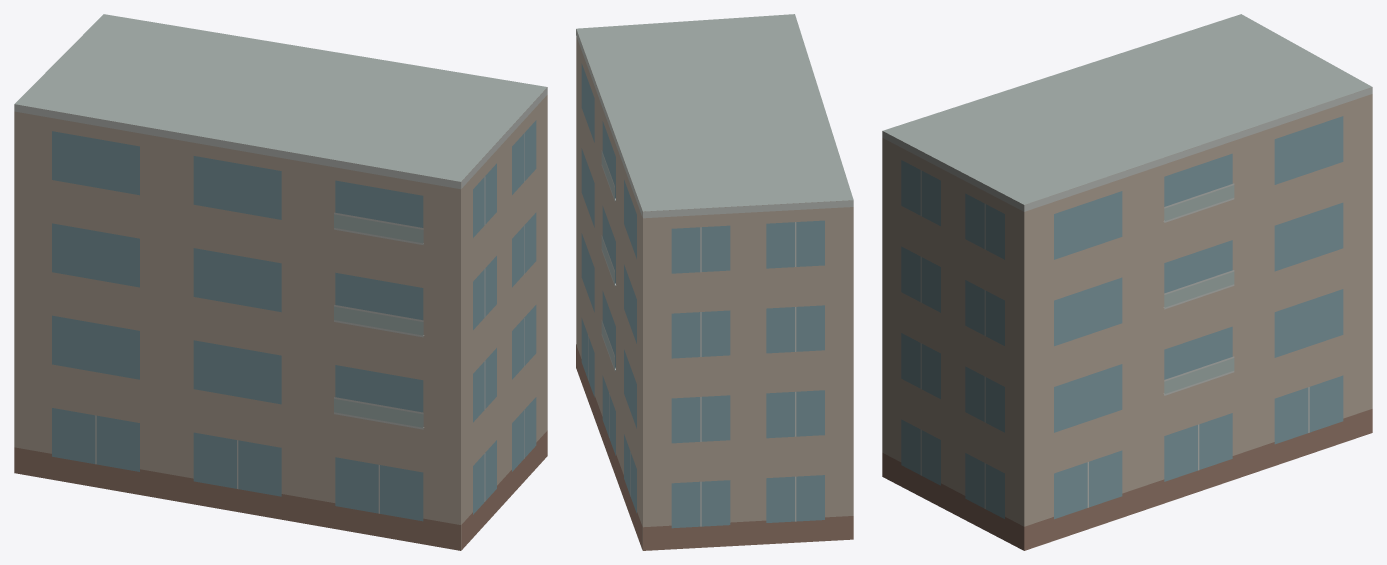
The model's file is survey-upis-32774866.glb.
3 views of the same model, side by side, from view 1: azimuth 30°, elevation 25°; view 2: azimuth 150°, elevation 25°; view 3: azimuth 270°, elevation 25° (orthographic). The views are drawn at different scales.
Visible parts, largest first — view 1: survey-upis-32774866.tmp; view 2: survey-upis-32774866.tmp; view 3: survey-upis-32774866.tmp.
Part boxes in pixels (x1=…): survey-upis-32774866.tmp: x1=14, y1=14, x2=547, y2=550; survey-upis-32774866.tmp: x1=576, y1=14, x2=853, y2=550; survey-upis-32774866.tmp: x1=882, y1=14, x2=1372, y2=550.
Size of the model in its own units: 14.45 by 12.2 by 15.68.
